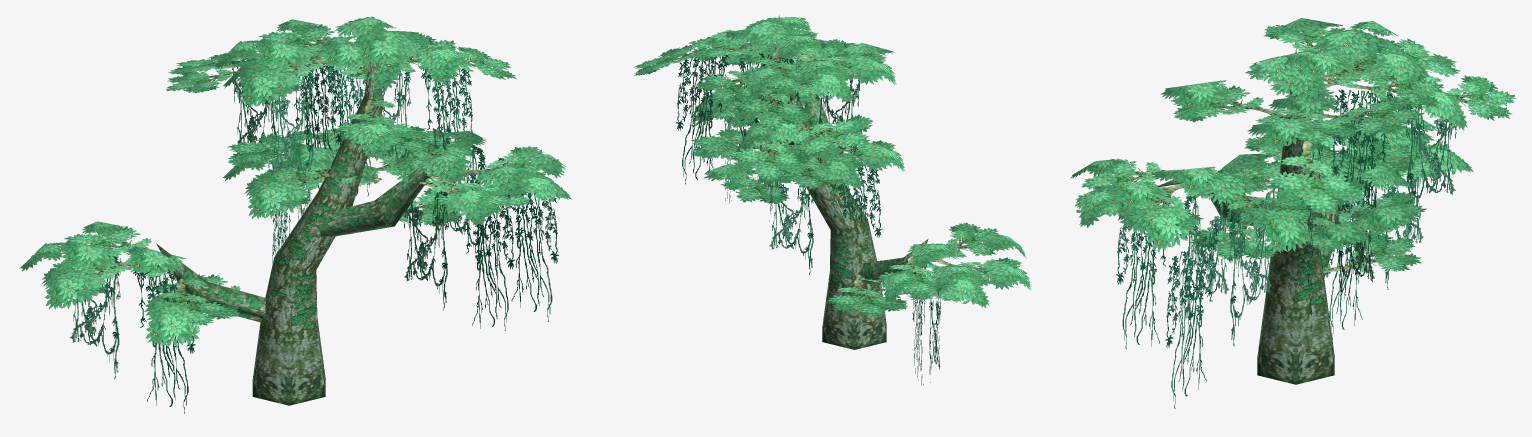
File: nml-bd073.glb
3 renders of one model, left to right at view 1: azimuth 30°, elevation 25°; view 2: azimuth 150°, elevation 25°; view 3: azimuth 270°, elevation 25°, orthographic. The views are drawn at different scales.
Visible parts, largest first — view 1: geom_node_2, geom_node_0, geom_node_1, geom_node_3; view 2: geom_node_2, geom_node_1, geom_node_0, geom_node_3; view 3: geom_node_2, geom_node_0, geom_node_3, geom_node_1.
Part boxes in pixels (x1=…): geom_node_2: x1=165, y1=16, x2=414, y2=405; geom_node_0: x1=335, y1=45, x2=571, y2=330; geom_node_1: x1=19, y1=221, x2=266, y2=413; geom_node_3: x1=308, y1=30, x2=516, y2=226; geom_node_2: x1=703, y1=15, x2=905, y2=349; geom_node_1: x1=827, y1=222, x2=1031, y2=385; geom_node_0: x1=676, y1=28, x2=894, y2=203; geom_node_3: x1=633, y1=29, x2=809, y2=159; geom_node_2: x1=1244, y1=18, x2=1515, y2=384; geom_node_0: x1=1070, y1=80, x2=1318, y2=408; geom_node_3: x1=1189, y1=73, x2=1424, y2=260; geom_node_1: x1=1217, y1=114, x2=1473, y2=339.
Size of the model in its own units: 14.03 by 10.32 by 10.88.
Materials: 10 (10 with a texture image).
